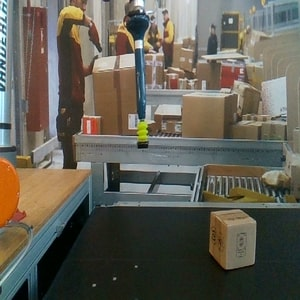box: (208, 209, 257, 270)
